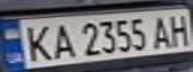2: (75, 19, 103, 56)
3: (97, 17, 118, 55)
5: (130, 16, 151, 52), (115, 16, 133, 53)
A: (48, 20, 78, 61), (148, 14, 175, 50)
H: (163, 11, 193, 47)
K: (18, 21, 54, 63)
